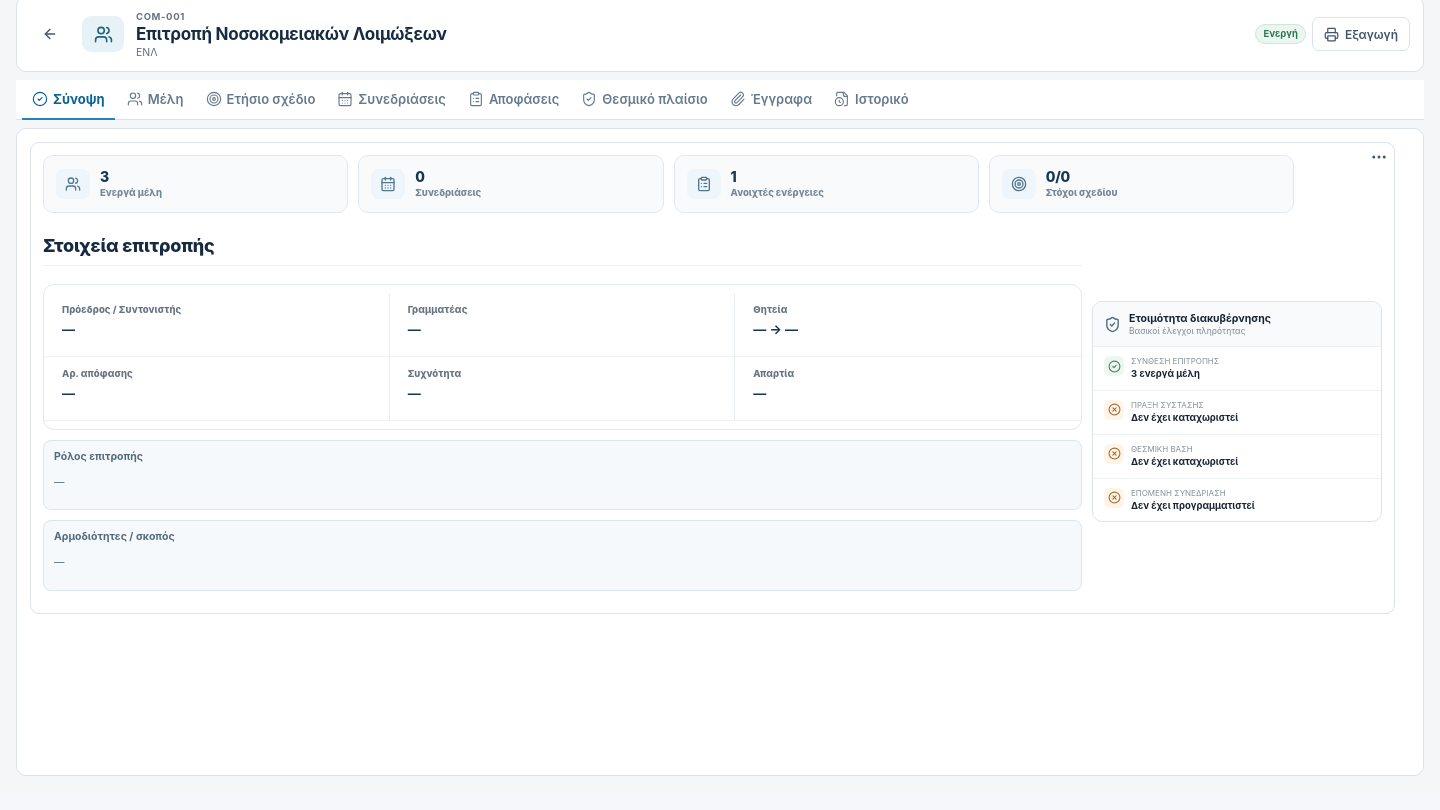
committee record: decisions › lists decisions with their status and no local search or filters
Click the tab "Αποφάσεις" at (514, 100), box [458, 80, 569, 120]
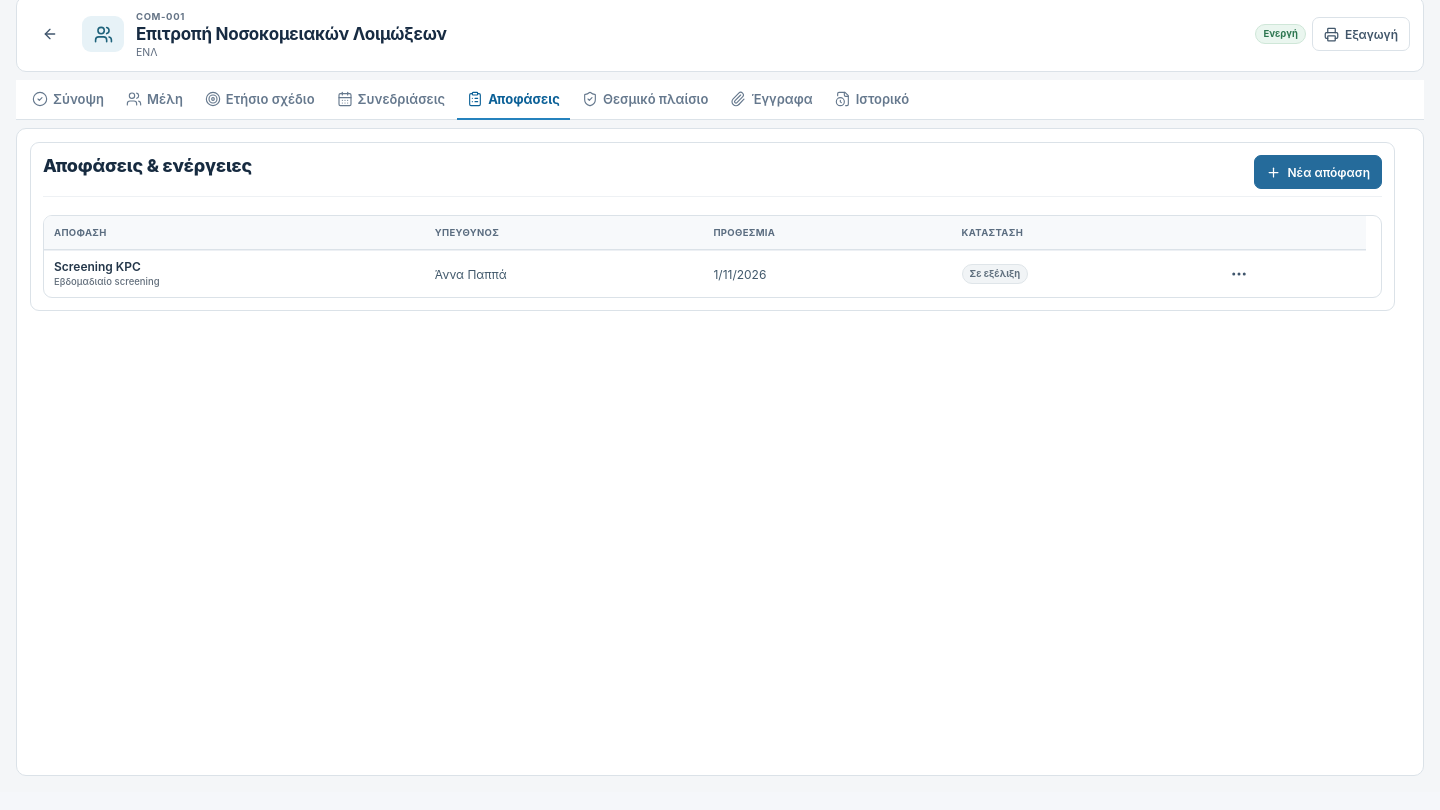
expect the text "Screening KPC" is shown: met, box [54, 259, 141, 274]
expect the text "Σε εξέλιξη" is shown: met, box [962, 264, 1028, 284]
